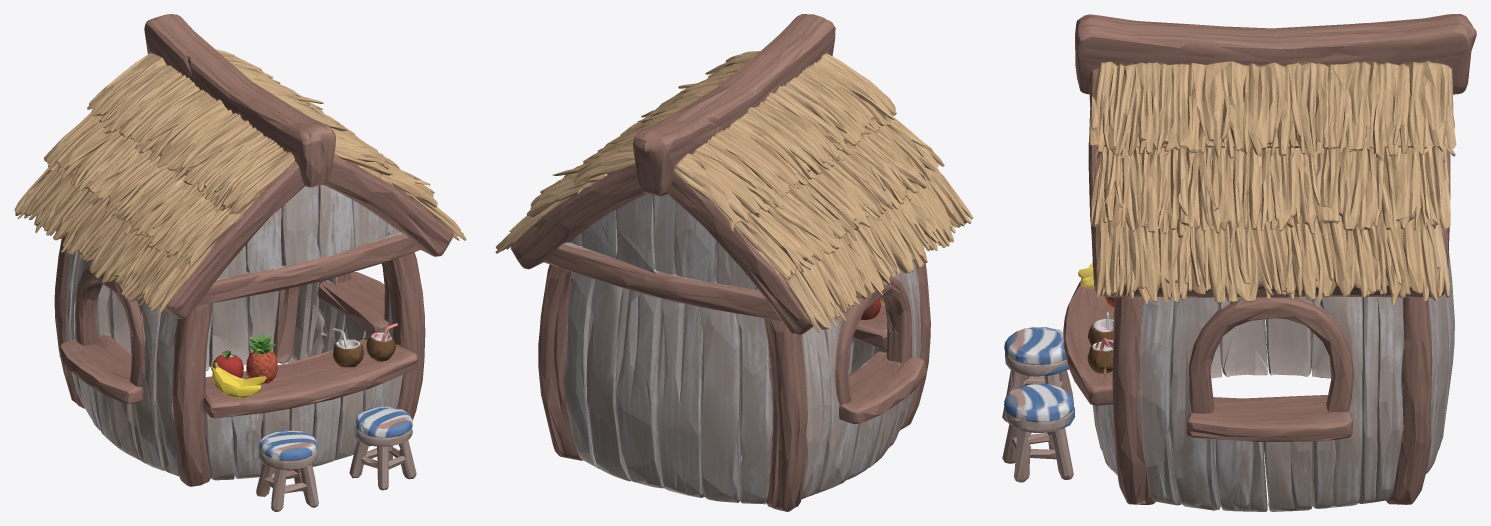
Rendered from quiosque.glb.
3 renders of one model, left to right at view 1: azimuth 30°, elevation 25°; view 2: azimuth 150°, elevation 25°; view 3: azimuth 270°, elevation 25°, orthographic. The views are drawn at different scales.
Bounding box in the file's own units: 1.82 × 1.87 × 1.9.
1 material, 1 textured.
